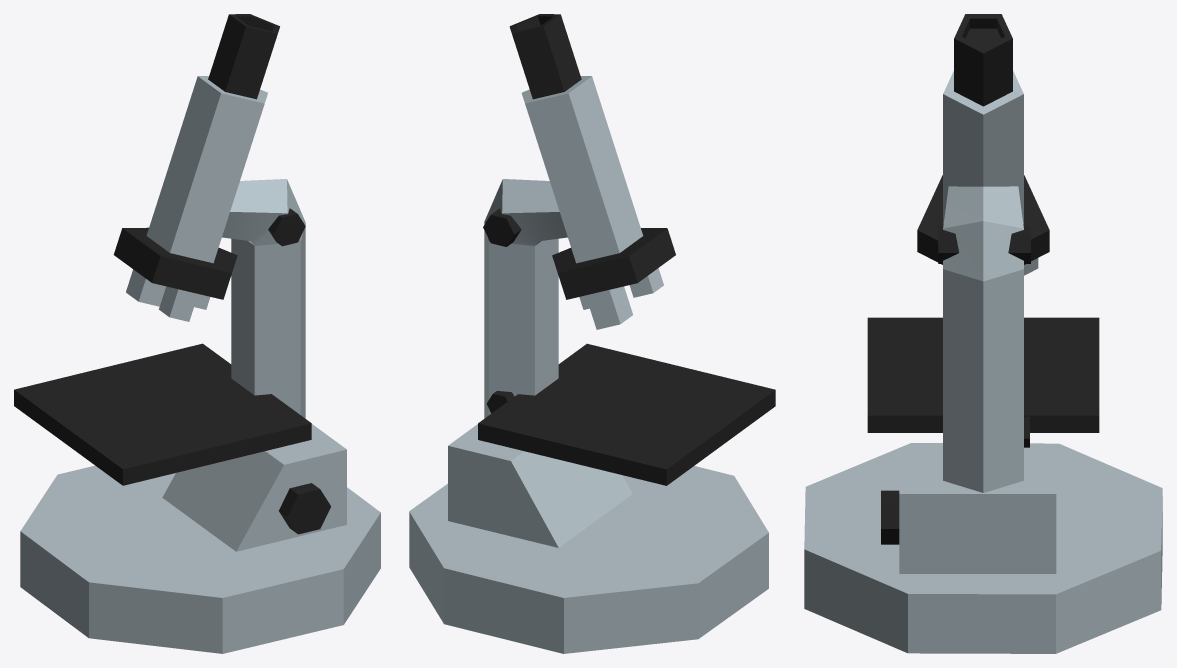
Rendered from microscope.glb.
3 renders of one model, left to right at view 1: azimuth 30°, elevation 25°; view 2: azimuth 150°, elevation 25°; view 3: azimuth 270°, elevation 25°, orthographic. The views are drawn at different scales.
Parts seen in each view (by area): view 1: microscope2, microscope1; view 2: microscope2, microscope1; view 3: microscope2, microscope1.
Boxes of the visible parts, box(x1,y1,x2,y2) form: microscope2: box(20, 76, 380, 653); microscope1: box(14, 14, 330, 534); microscope2: box(409, 76, 768, 653); microscope1: box(478, 14, 775, 485); microscope2: box(804, 71, 1162, 653); microscope1: box(867, 14, 1099, 544).
Bounding box in the file's own units: 0.357 × 0.6413 × 0.357.
1 material, 1 textured.
